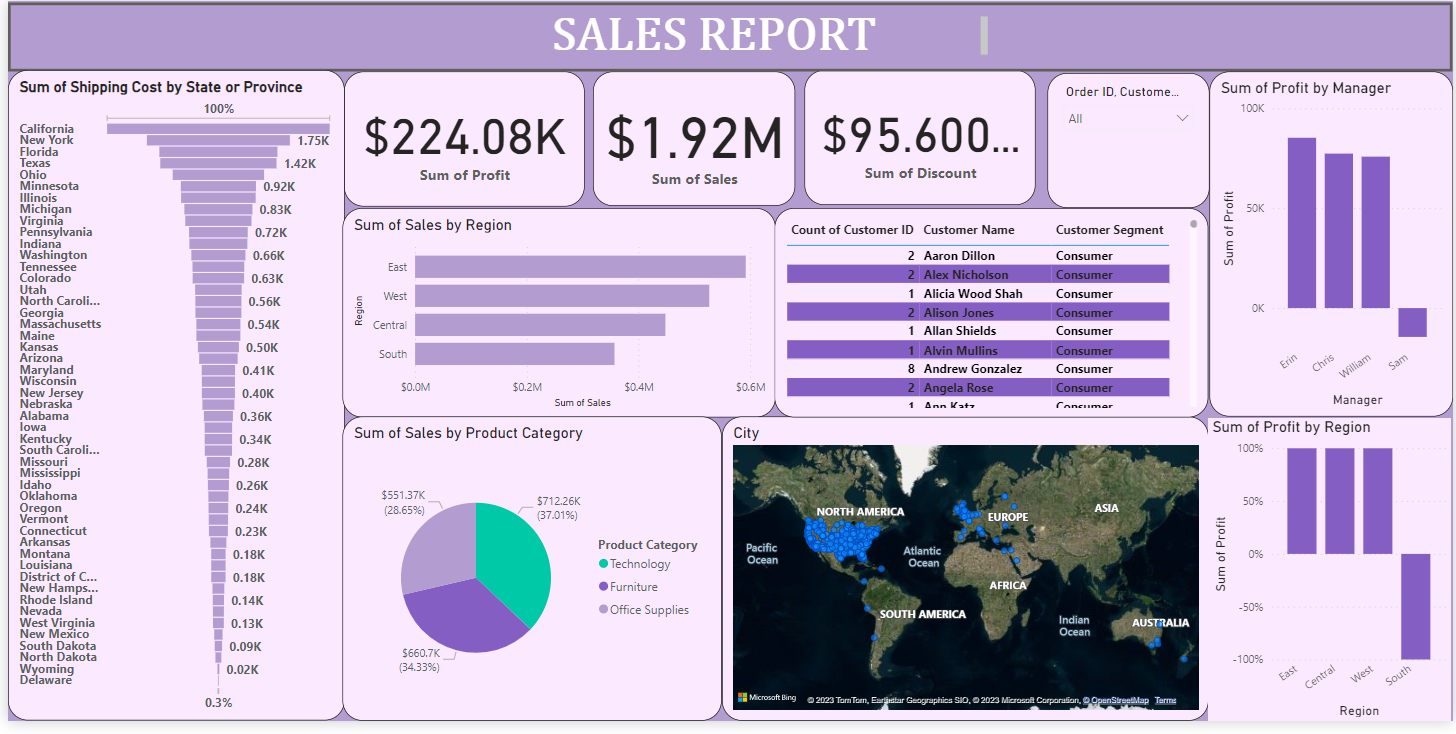

Layout of this report page (visuals, bound fields, positions):
{"tool":"powerbi","page":{"name":"Page 1","canvas":[1605,800],"ordinal":0},"visuals":[{"type":"card","fields":{"Values":["Orders.Discount"]},"box":[885,76.7,256.7,150],"z":0},{"type":"card","fields":{"Values":["Orders.Profit"]},"box":[373.4,78.1,267.2,150],"z":1000},{"type":"card","fields":{"Values":["Orders.Sales"]},"box":[649.2,78.7,224.6,149.2],"z":2000},{"type":"actionButton","box":[0,1.7,1605,76.7],"z":3000},{"type":"textbox","box":[483.3,8.3,610,61.7],"z":4000},{"type":"funnel","fields":{"Y":["Orders.Shipping Cost"],"Category":["Orders.State or Province"]},"box":[0,77,373.8,723],"z":5000},{"type":"clusteredBarChart","fields":{"Y":["Orders.Sales"],"Category":["Orders.Region"]},"box":[371.9,229.7,481.2,232.8],"z":6000},{"type":"slicer","fields":{"Values":["Orders.Order ID","Orders.Customer ID"]},"box":[1155,80,180,150],"z":7000},{"type":"pieChart","fields":{"Category":["Orders.Product Category"],"Y":["Orders.Sales"]},"box":[372.1,462.3,421.3,337.7],"z":8000},{"type":"map","fields":{"Category":["Orders.City"]},"box":[793.4,462.3,541,337.7],"z":9000},{"type":"tableEx","fields":{"Values":["Table 1 (Orders).Customer ID","Table 1 (Orders).Customer Name","Table 1 (Orders).Customer Segment"]},"box":[852.5,229.5,482,232.8],"z":10000},{"type":"columnChart","fields":{"Category":["Users.Manager"],"Y":["Table 1 (Orders).Profit"]},"box":[1334.4,78.7,270.5,383.6],"z":11000},{"type":"hundredPercentStackedColumnChart","fields":{"Category":["Orders.Region"],"Y":["Orders.Profit"]},"box":[1334,463,270,337],"z":12000}]}

Visuals, with their boxes in screenshot pixels (x1, y1, x2, y2), scaled from the page's 1605x800 canvas onto the 1456x734 screenshot:
card - Orders.Discount: <bbox>803, 70, 1036, 208</bbox>
card - Orders.Profit: <bbox>339, 72, 581, 209</bbox>
card - Orders.Sales: <bbox>589, 72, 793, 209</bbox>
actionButton: <bbox>0, 2, 1455, 72</bbox>
textbox: <bbox>438, 8, 992, 64</bbox>
funnel - Orders.Shipping Cost x Orders.State or Province: <bbox>0, 71, 339, 733</bbox>
clusteredBarChart - Orders.Sales x Orders.Region: <bbox>337, 211, 774, 424</bbox>
slicer - Orders.Order ID x Orders.Customer ID: <bbox>1048, 73, 1211, 211</bbox>
pieChart - Orders.Product Category x Orders.Sales: <bbox>338, 424, 720, 733</bbox>
map - Orders.City: <bbox>720, 424, 1211, 733</bbox>
tableEx - Table 1 (Orders).Customer ID x Table 1 (Orders).Customer Name: <bbox>773, 211, 1211, 424</bbox>
columnChart - Users.Manager x Table 1 (Orders).Profit: <bbox>1211, 72, 1455, 424</bbox>
hundredPercentStackedColumnChart - Orders.Region x Orders.Profit: <bbox>1210, 425, 1455, 733</bbox>
